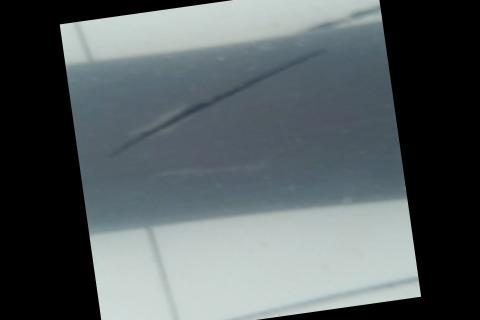keretakan: (95, 44, 342, 158)
